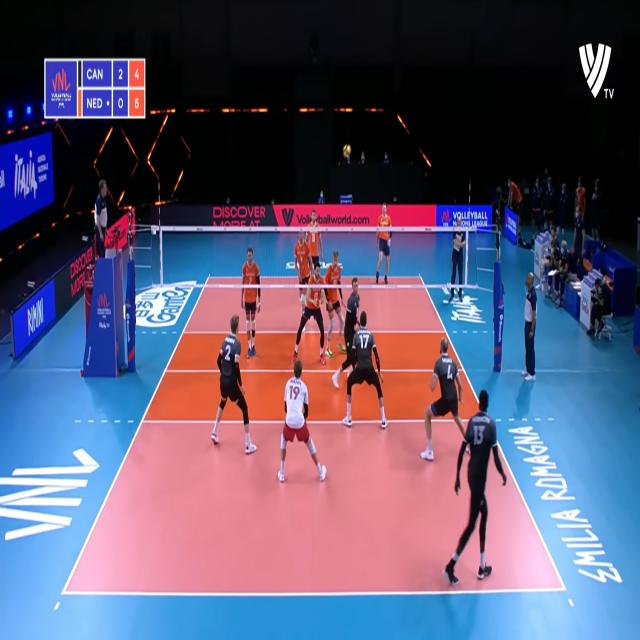player: (453, 389, 504, 586), (280, 360, 328, 496), (211, 313, 255, 458), (424, 336, 472, 468), (345, 306, 391, 437), (239, 246, 267, 358), (338, 273, 368, 369), (323, 252, 348, 360), (374, 199, 401, 292), (303, 259, 326, 348), (294, 223, 316, 292), (307, 203, 326, 272)
